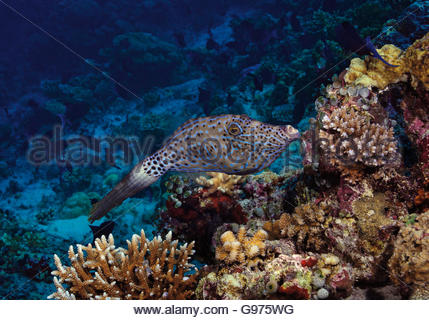Aluterus_scriptus: (84, 108, 303, 228)
